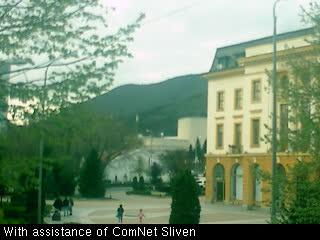person: (116, 204, 125, 222), (55, 197, 63, 215), (137, 209, 146, 223), (64, 197, 69, 216), (69, 198, 74, 216)
